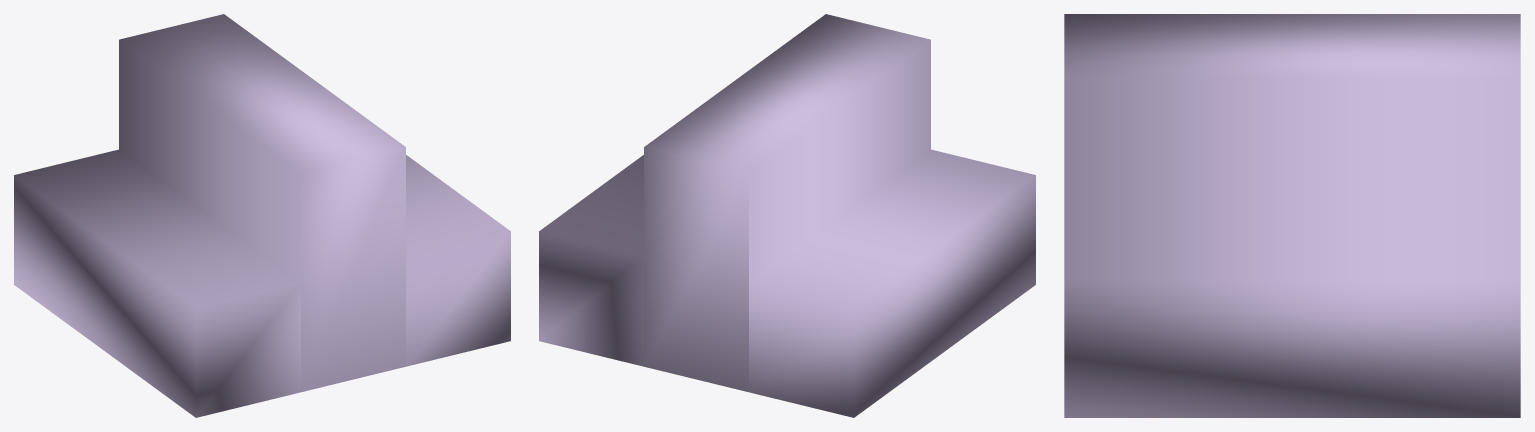
File: C_barrack.fbx
3 renders of one model, left to right at view 1: azimuth 30°, elevation 25°; view 2: azimuth 150°, elevation 25°; view 3: azimuth 270°, elevation 25°, orthographic. The views are drawn at different scales.
Visible parts, largest first — view 1: Mesh; view 2: Mesh; view 3: Mesh.
Boxes of the visible parts, x1,y1,x2,y2 form: Mesh: (14, 14, 510, 417); Mesh: (539, 14, 1035, 417); Mesh: (1064, 14, 1520, 417).
Bounding box in the file's own units: 3 × 2 × 3.
